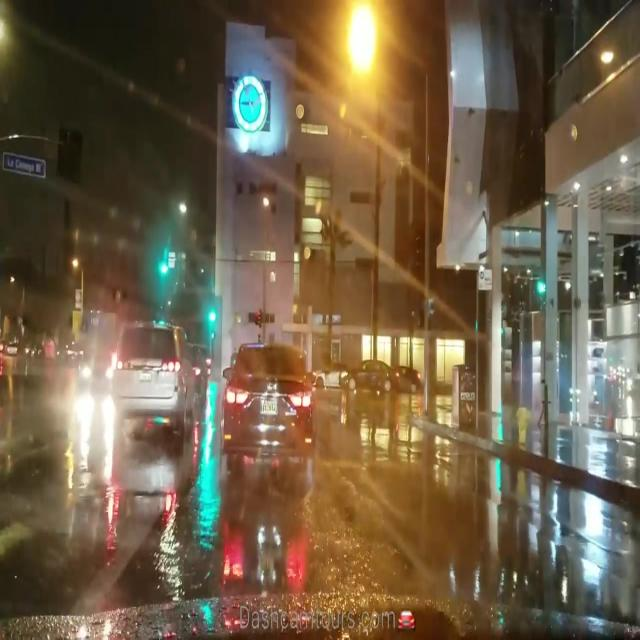Car: (220, 341, 311, 467), (109, 321, 196, 429), (335, 359, 395, 391)
